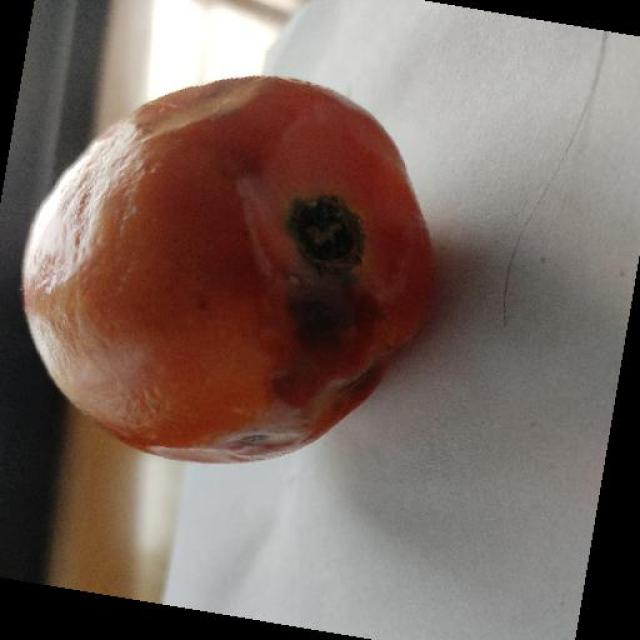Stale_tomato: (47, 117, 436, 460)
